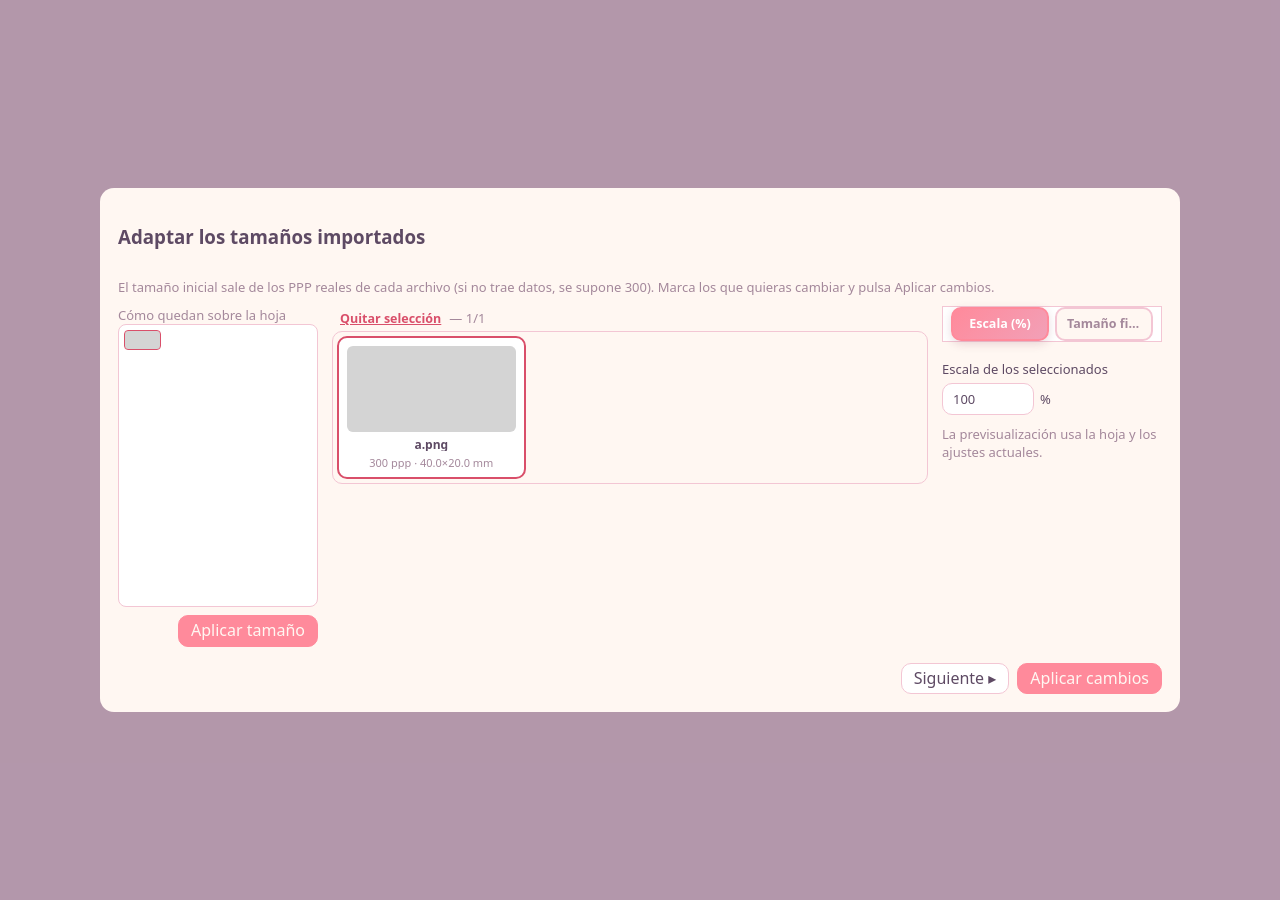
Test: Popup de importación múltiple › el modo tamaño fijo enseña el lado y el selector de medida
What coordinates should you click on to do the following:
click the button with test id "import-modo-tamano"
I would click on:
 (1104, 324)
Its box is [1055,307,1153,341].
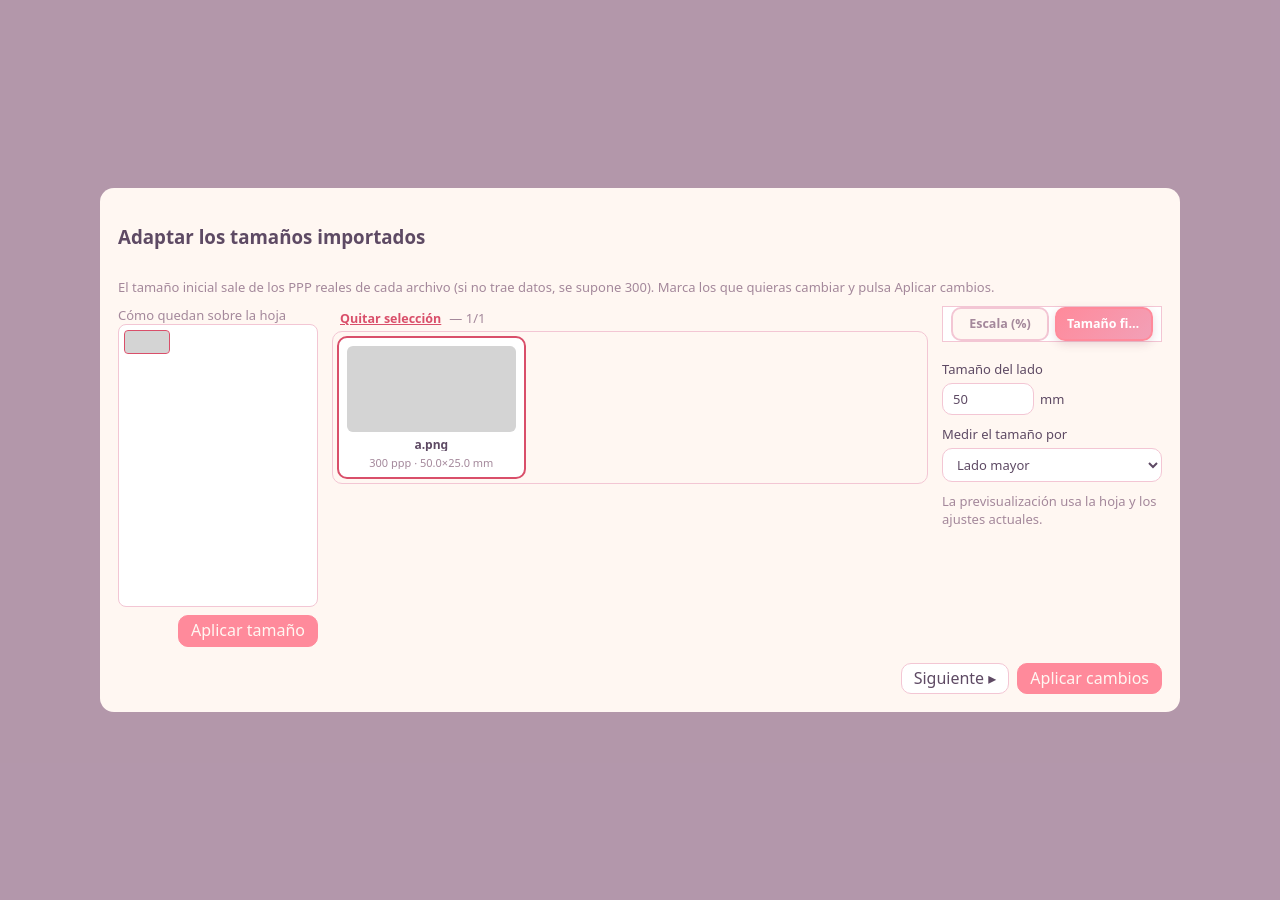
Result: the number field with test id "import-tamano" is shown at [942,383,1034,415]
Result: the dropdown with test id "import-modo" is shown at [942,448,1162,482]
Result: the number field with test id "import-escala" is gone
